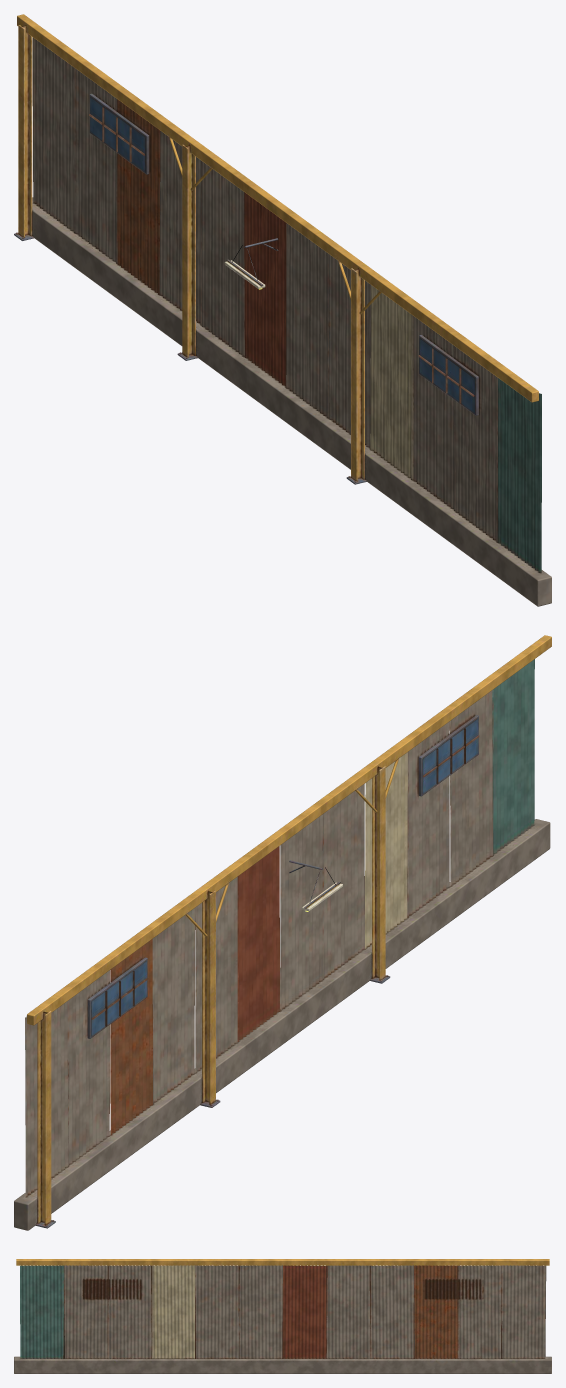
File: ws_wall_right.glb
3 views of the same model, one above another, from view 1: azimuth 30°, elevation 25°; view 2: azimuth 150°, elevation 25°; view 3: azimuth 270°, elevation 25° (orthographic). The views are drawn at different scales.
Visible parts, largest first — view 1: wall; view 2: wall; view 3: wall.
Boxes of the visible parts, <box> form: wall: <box>14,14,551,606</box>; wall: <box>14,635,551,1230</box>; wall: <box>14,1259,551,1373</box>.
Size of the model in its own units: 1.4 by 5.58 by 24.6.
2 materials, 1 textured.
